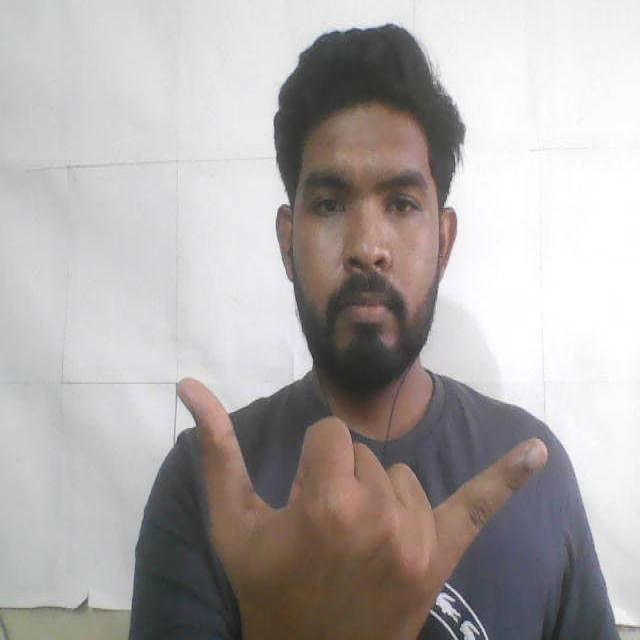Thanks: (148, 354, 554, 640)
